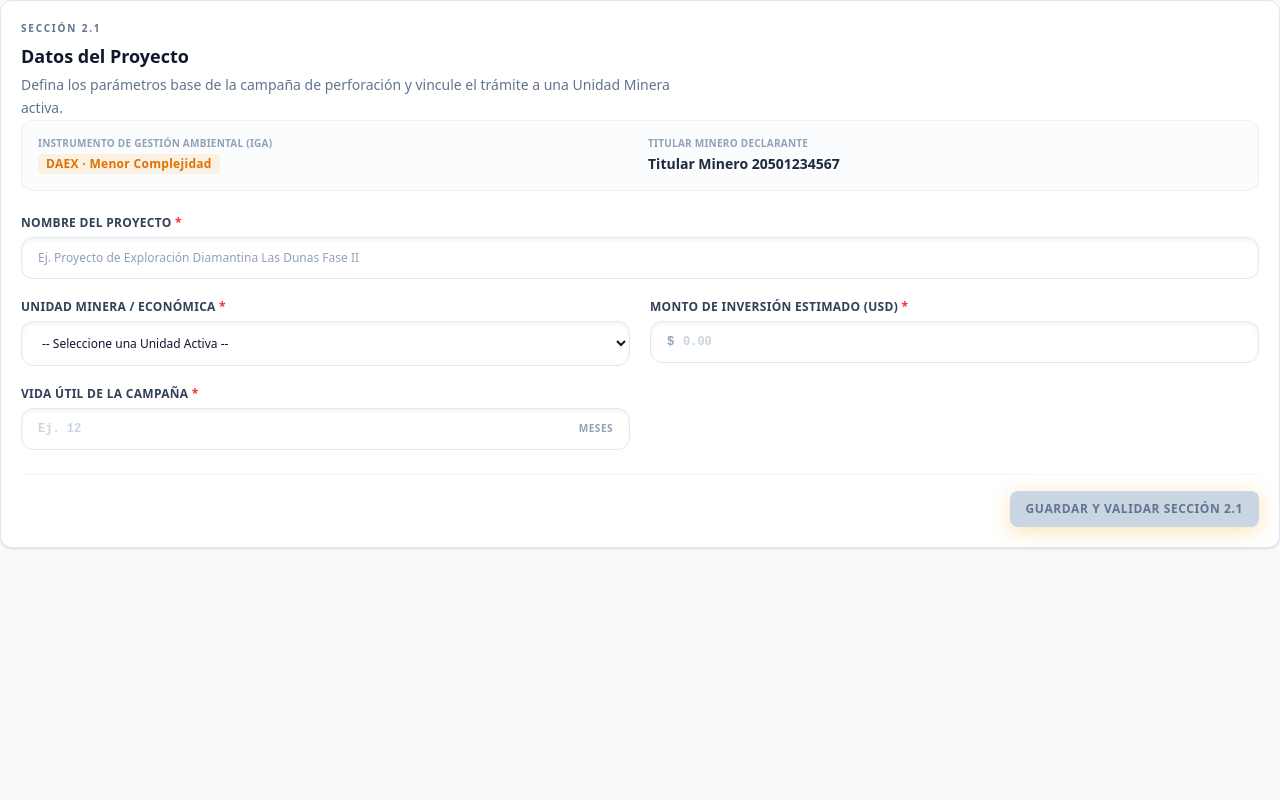
DatosProyectoComponent › Guardado transaccional › aclara el acuse y lo retira al volver a editar
The width and height of the screenshot is (1280, 800).
Type "Las Dunas Fase II" into the field with id "nombreProyecto" at {"x": 640, "y": 258}, box [21,237,1259,279]
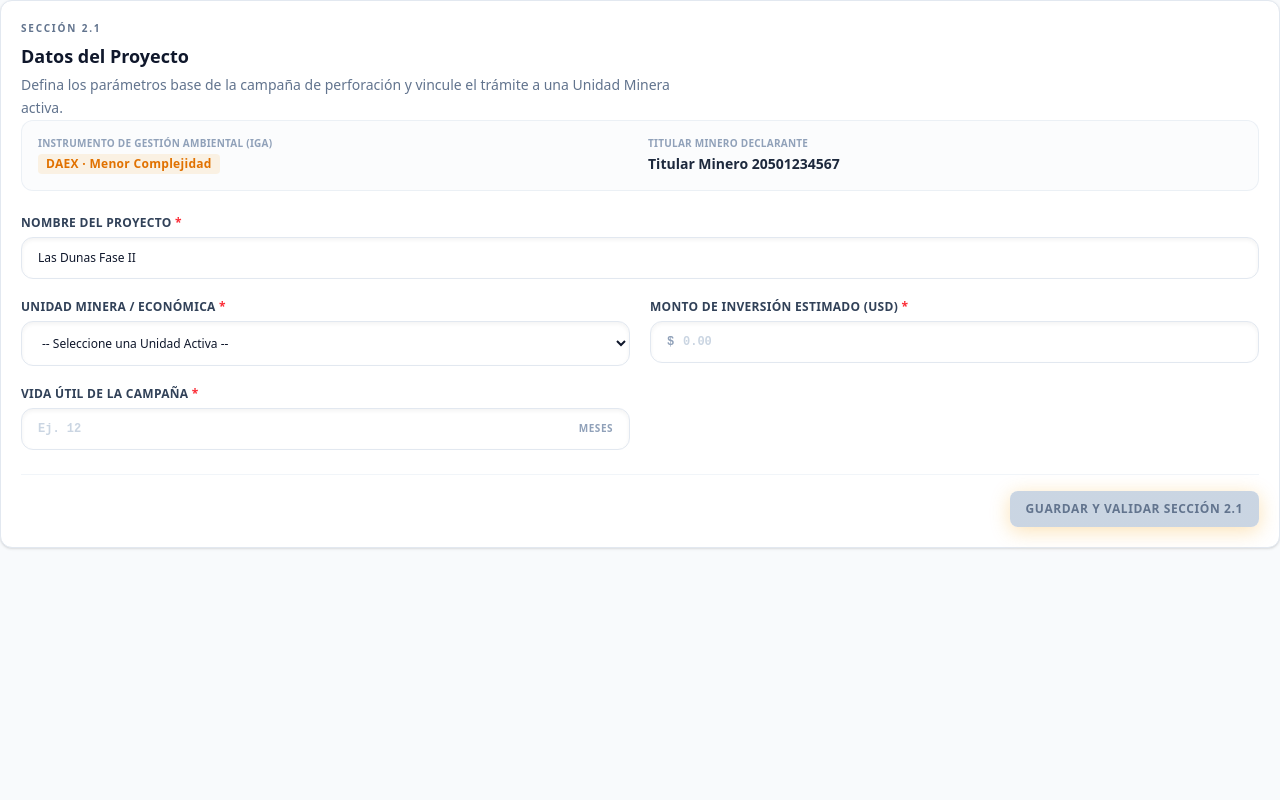
Select "Unidad Las Dunas" in the dropdown with id "unidadMinera" at {"x": 326, "y": 343}, box [21,321,630,366]
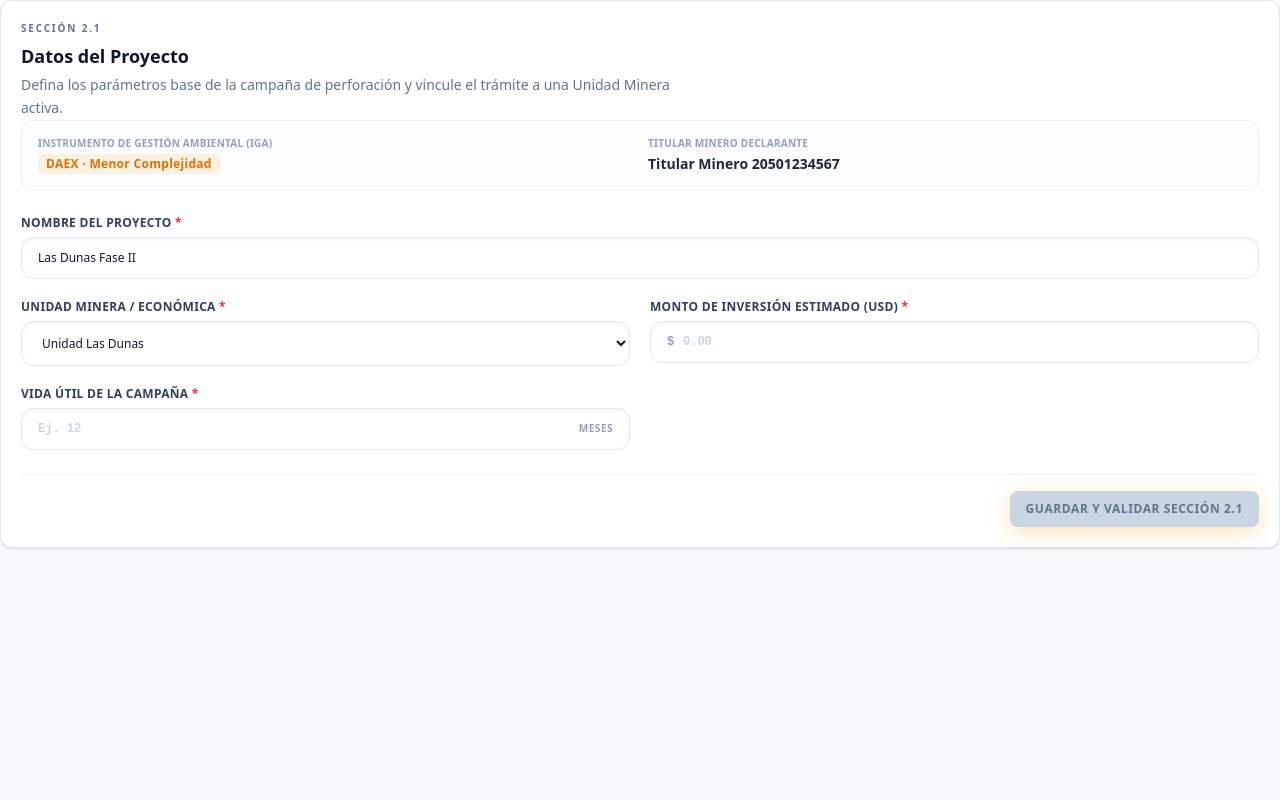
Type "1250000" into the number field with id "montoInversion" at {"x": 954, "y": 342}, box [651,322,1258,362]
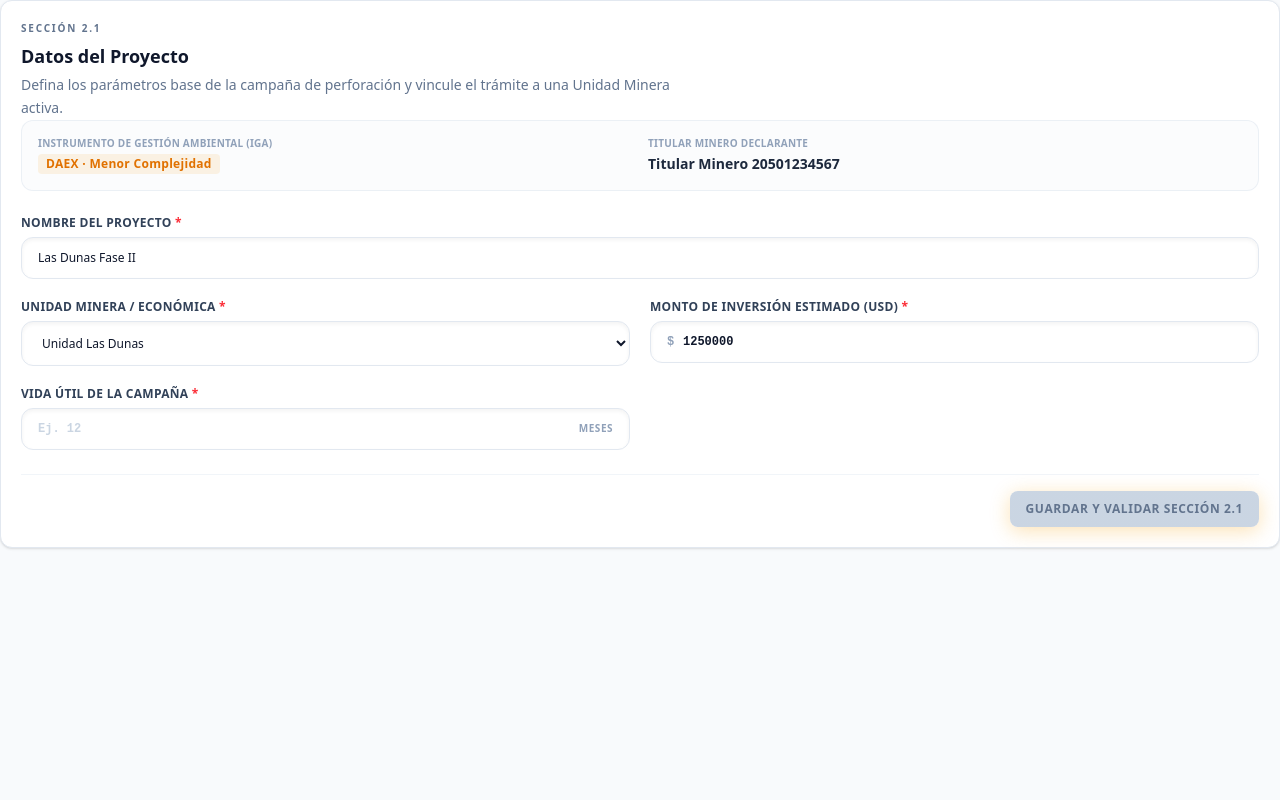
Type "12" into the number field labelled "Vida Útil de la Campaña *" at {"x": 326, "y": 429}, box [22,409,629,449]
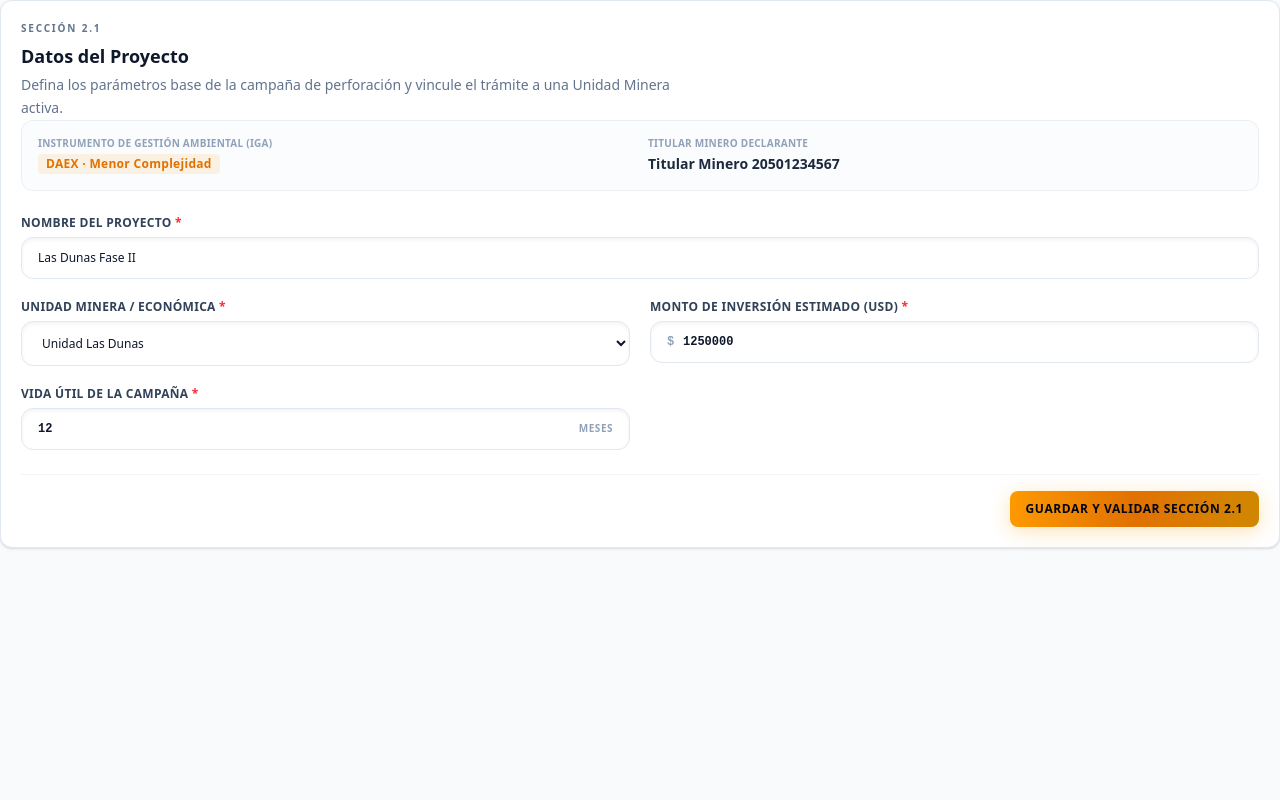
Click the button "Guardar y Validar Sección 2.1" at {"x": 1134, "y": 509}, box [1010,491,1259,527]
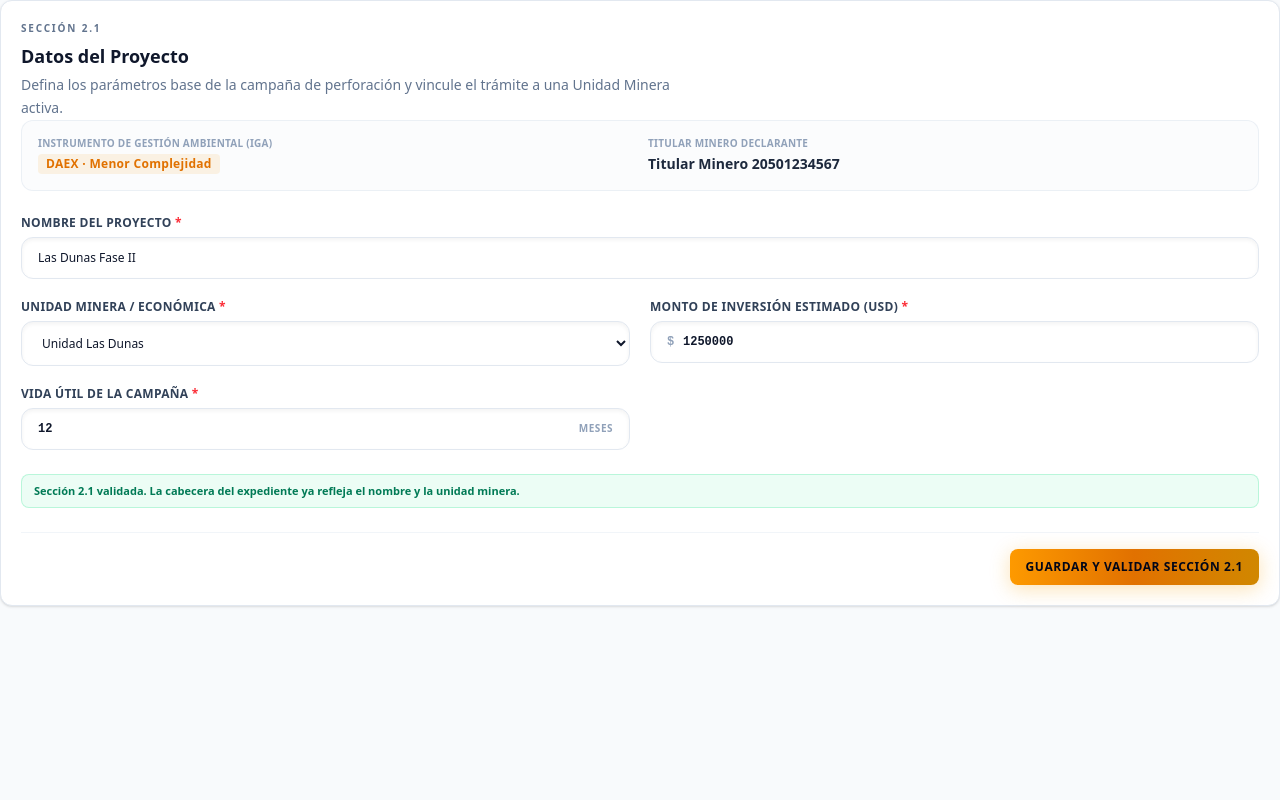
Result: the message shows "Sección 2.1 validada" at [34,483,520,498]
Replace the text in the field with id "nombreProyecto" with "Las Dunas III" at {"x": 640, "y": 258}, box [21,237,1259,279]
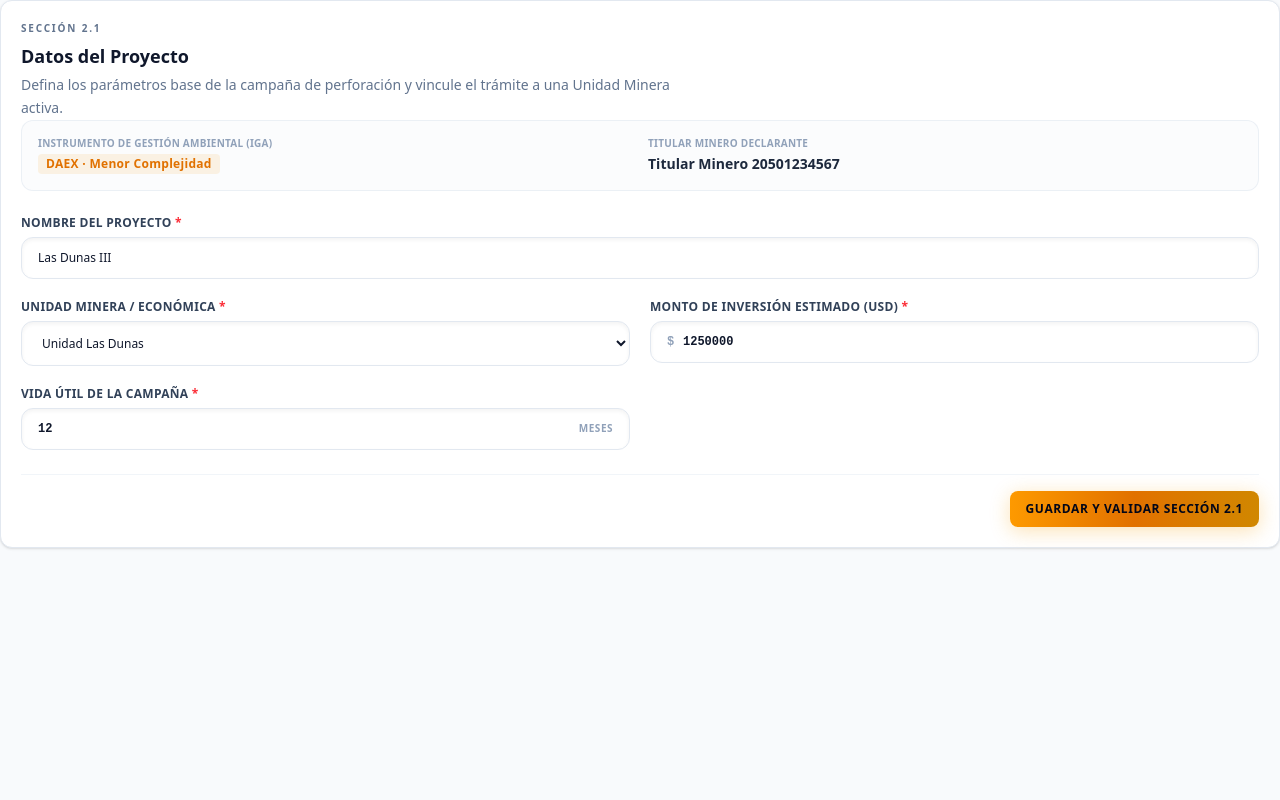
Result: the message is gone
